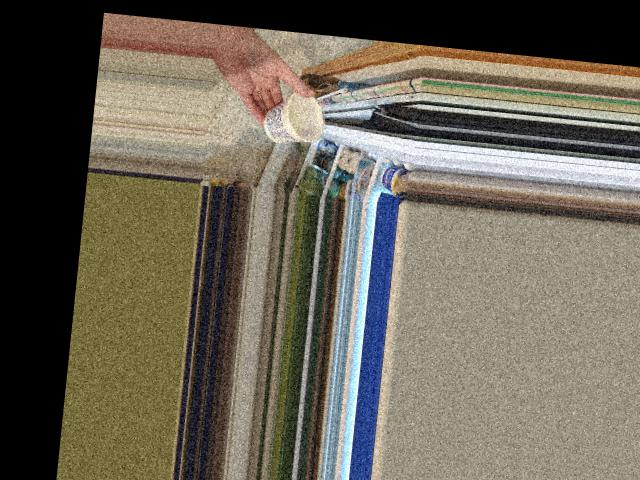cotage: (262, 90, 326, 143)
